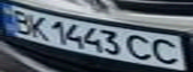1: (45, 18, 69, 45)
3: (100, 28, 124, 57)
4: (81, 25, 103, 54), (63, 21, 84, 48)
B: (6, 7, 36, 35)
C: (148, 36, 187, 66), (124, 33, 157, 62)
K: (24, 14, 51, 40)
